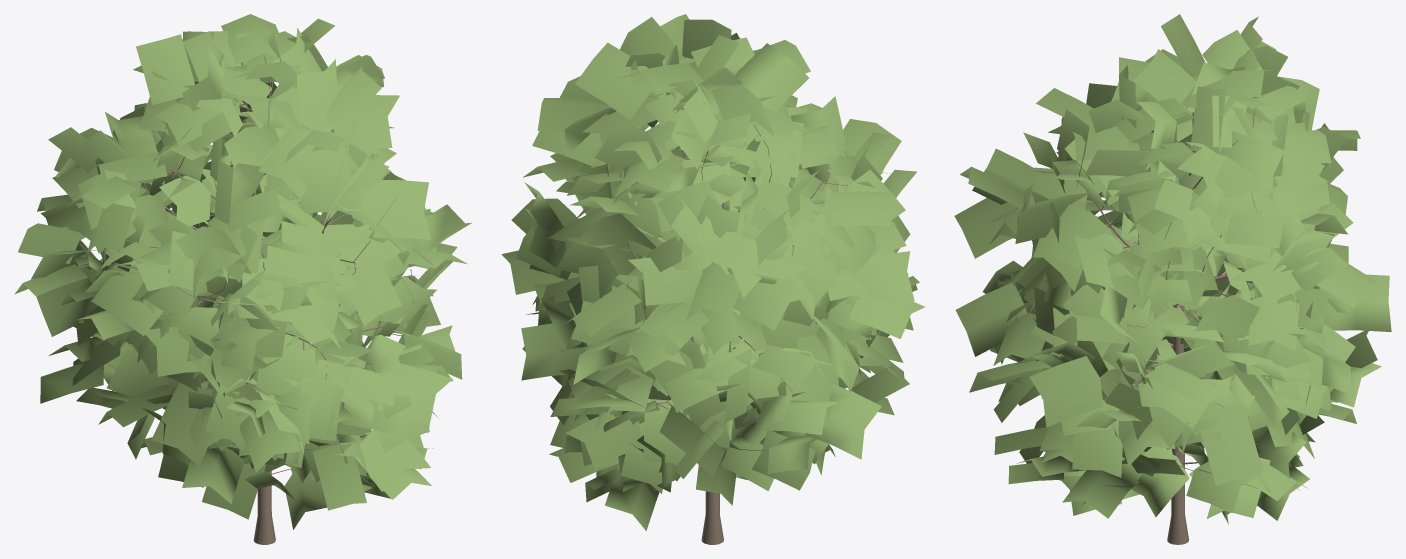
The model's file is Broadleaf_11_young_lod0.glb.
The picture shows the model from 3 angles, left to right: view 1: azimuth 30°, elevation 25°; view 2: azimuth 150°, elevation 25°; view 3: azimuth 270°, elevation 25°; orthographic projection. The views are drawn at different scales.
Visible parts, largest first — view 1: Broadleaf_11_young_lod0; view 2: Broadleaf_11_young_lod0; view 3: Broadleaf_11_young_lod0.
Part boxes in pixels (left/top/right/bottom): Broadleaf_11_young_lod0: left=15, top=14, right=471, bottom=544; Broadleaf_11_young_lod0: left=501, top=14, right=924, bottom=544; Broadleaf_11_young_lod0: left=954, top=14, right=1391, bottom=544.
Bounding box in the file's own units: 5.68 × 6.52 × 5.17.
